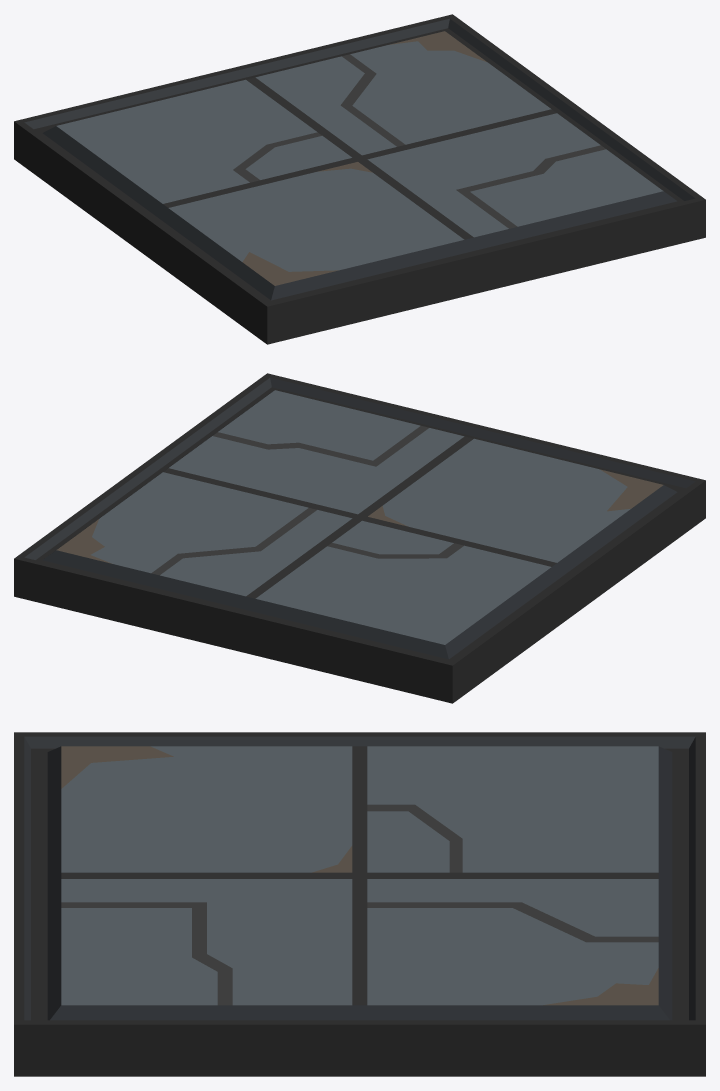
File: SM_Bld_Floor_Small_06.fbx
The picture shows the model from 3 angles, top to bottom: view 1: azimuth 30°, elevation 25°; view 2: azimuth 150°, elevation 25°; view 3: azimuth 270°, elevation 25°; orthographic projection. The views are drawn at different scales.
Parts seen in each view (by area): view 1: SM_Bld_Floor_Small_06; view 2: SM_Bld_Floor_Small_06; view 3: SM_Bld_Floor_Small_06.
Part boxes in pixels (x1=…): SM_Bld_Floor_Small_06: x1=14, y1=14, x2=705, y2=344; SM_Bld_Floor_Small_06: x1=14, y1=373, x2=705, y2=703; SM_Bld_Floor_Small_06: x1=14, y1=732, x2=705, y2=1076.
Size of the model in its own units: 250 by 21.74 by 250.
1 material, 1 textured.
